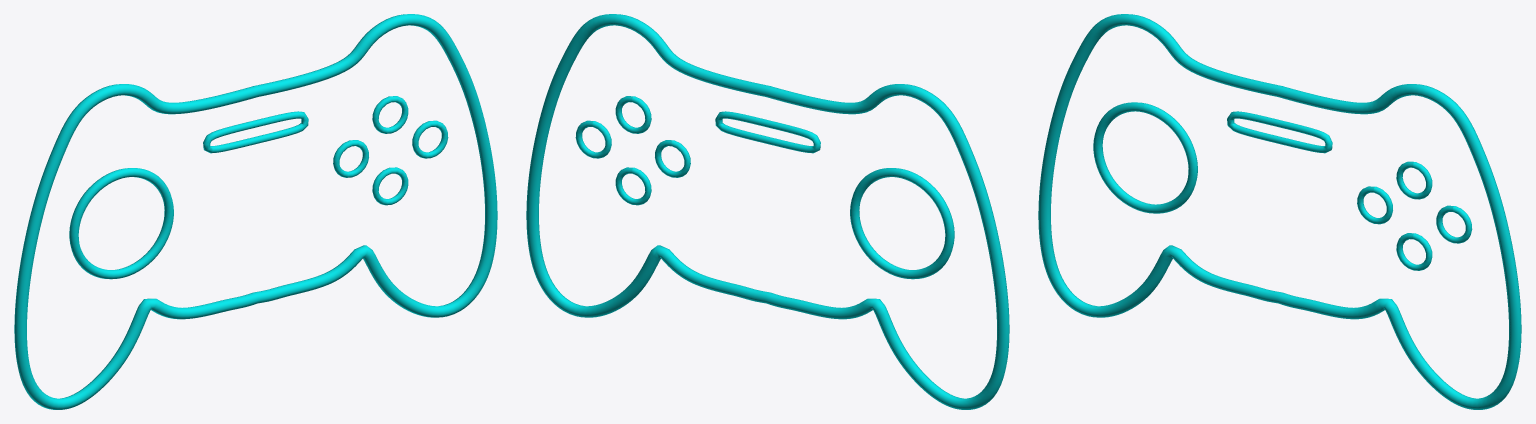
Rendered from GameController_NEON_sign.fbx.
3 views of the same model, side by side, from view 1: azimuth 30°, elevation 25°; view 2: azimuth 150°, elevation 25°; view 3: azimuth 330°, elevation 25° (orthographic).
Parts seen in each view (by area): view 1: sweep1, sweep2, sweep7, sweep3, sweep4, sweep6, sweep5; view 2: sweep1, sweep2, sweep7, sweep3, sweep4, sweep6, sweep5; view 3: sweep1, sweep2, sweep7, sweep3, sweep4, sweep5, sweep6.
Part boxes in pixels (left/top/right/bottom): sweep1: left=14, top=14, right=497, bottom=409; sweep2: left=69, top=168, right=173, bottom=279; sweep7: left=203, top=111, right=308, bottom=153; sweep3: left=372, top=96, right=408, bottom=133; sweep4: left=372, top=167, right=408, bottom=205; sweep6: left=412, top=120, right=448, bottom=158; sweep5: left=333, top=140, right=368, bottom=177; sweep1: left=526, top=14, right=1009, bottom=409; sweep2: left=850, top=168, right=954, bottom=279; sweep7: left=715, top=111, right=820, bottom=153; sweep3: left=615, top=96, right=651, bottom=133; sweep4: left=615, top=167, right=651, bottom=205; sweep6: left=575, top=120, right=611, bottom=158; sweep5: left=655, top=140, right=690, bottom=177; sweep1: left=1038, top=14, right=1521, bottom=409; sweep2: left=1093, top=102, right=1197, bottom=213; sweep7: left=1227, top=111, right=1332, bottom=153; sweep3: left=1396, top=161, right=1432, bottom=199; sweep4: left=1396, top=233, right=1432, bottom=270; sweep5: left=1357, top=186, right=1392, bottom=224; sweep6: left=1436, top=205, right=1472, bottom=243.
Bounding box in the file's own units: 44.71 × 27.67 × 0.984.
